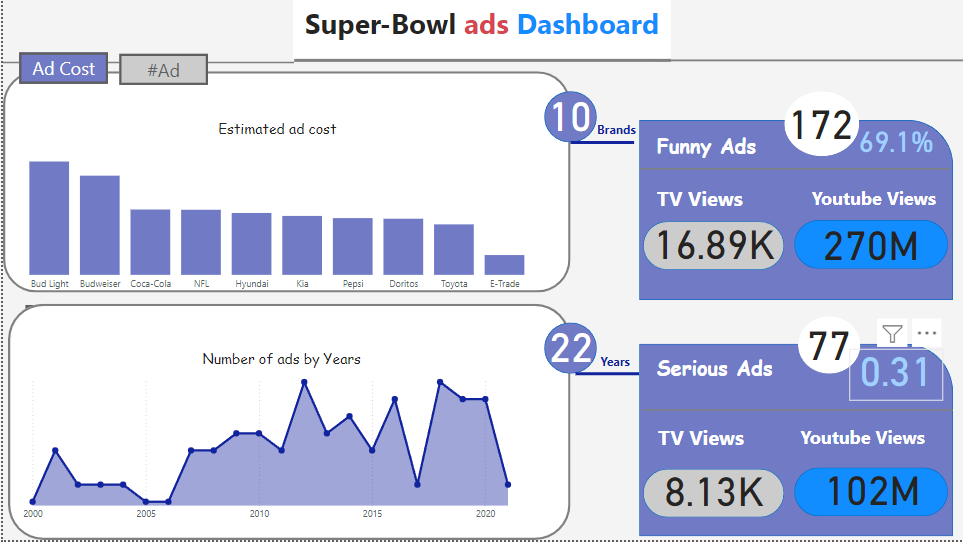

This screenshot's page, from the dashboard's own definition file:
{"tool":"powerbi","page":{"name":"Page 1","canvas":[1280,720],"ordinal":0},"visuals":[{"type":"actionButton","title":"ad cost","box":[21.7,70,118.3,41.7],"z":0,"group":"g2"},{"type":"actionButton","title":"ad cost","box":[21.7,70,118.3,41.7],"z":0,"group":"g1"},{"type":"shape","box":[848.3,160,418.3,240],"z":0},{"type":"textbox","box":[387,0,503.6,79.6],"z":1000},{"type":"actionButton","title":"#ads","box":[155,71.7,118.3,41.7],"z":1000,"group":"g1"},{"type":"actionButton","box":[30.7,406.7,118.3,41.7],"z":2000},{"type":"shape","box":[388.3,39.8,502.2,81],"z":3000},{"type":"actionButton","box":[170.7,408.3,111.7,41.7],"z":4000},{"type":"shape","box":[0,73,388.3,20],"z":5000},{"type":"shape","box":[867.2,1.4,413,157.8],"z":6000},{"type":"shape","box":[0,95,756.7,295],"z":7000},{"type":"shape","box":[6.7,405,750,315],"z":8000},{"type":"areaChart","title":"Number of ads by Years","fields":{"Category":["Dim_Year.Year"],"Y":["Measure Table.Total Records"]},"box":[21.7,465,700,238.3],"z":9000},{"type":"shape","box":[721.7,121.7,70,68.3],"z":10000},{"type":"shape","box":[721.7,430,70,68.3],"z":11000},{"type":"card","fields":{"Values":["Measure Table.# brands"]},"box":[718.3,108.3,75,81.7],"z":12000},{"type":"card","fields":{"Values":["Dim_Brands.#Year"]},"box":[720,416.7,75,81.7],"z":13000},{"type":"shape","box":[756.7,170,85,40],"z":14000},{"type":"shape","box":[763.3,478.3,85,40],"z":15000},{"type":"textbox","box":[763.3,156.7,126.7,33.3],"z":16000},{"type":"textbox","box":[791.7,465,75,33.3],"z":17000},{"type":"shape","box":[848.3,458.3,418.3,256.7],"z":18000},{"type":"textbox","box":[866.7,170,298.3,51.7],"z":19000},{"type":"textbox","box":[866.7,465,275,68.3],"z":20000},{"type":"group","id":"g1","title":"inactiveBtn","box":[21.7,70,251.7,43.3],"z":21000},{"type":"group","id":"g2","title":"activeBtn","box":[21.7,70,251.7,43.3],"z":22000},{"type":"group","id":"g3","title":"Charts","box":[3.3,158.3,725,238.3],"z":23000},{"type":"shape","box":[867,1.4,413,157.8],"z":24000},{"type":"columnChart","title":"Estimated ad cost","fields":{"Category":["Dim_Brands.Brand"],"Y":["Dim_Brands.ad cost"]},"box":[3.3,158.3,725,238.3],"z":24500,"group":"g3"},{"type":"shape","box":[848.3,208.3,413.3,33.3],"z":25000},{"type":"shape","box":[853.3,530,413.3,33.3],"z":26000},{"type":"shape","box":[1041.7,121.7,100,86.7],"z":27000},{"type":"shape","box":[1060,421.7,83.3,76.7],"z":28000},{"type":"card","fields":{"Values":["Measure Table.# funny ads"]},"box":[1038.3,141.7,103.3,58.3],"z":29000},{"type":"card","fields":{"Values":["Measure Table.# Serious ads"]},"box":[1043.3,436.7,115,56.7],"z":30000},{"type":"card","fields":{"Values":["Measure Table.% funny ads"]},"box":[1101.7,170,178.3,51.7],"z":31000},{"type":"card","fields":{"Values":["Measure Table.% serious ads"]},"box":[1128.3,465,125,70],"z":32000},{"type":"textbox","box":[866.7,241.7,138.3,51.7],"z":33000},{"type":"textbox","box":[868.3,560,138.3,51.7],"z":33001},{"type":"textbox","box":[1073.3,243.3,206.7,51.7],"z":33002},{"type":"textbox","box":[1058.3,561.7,221.7,50],"z":33004},{"type":"shape","box":[853.3,295,188.3,65],"z":33005},{"type":"shape","box":[1055,293.3,205,65],"z":33006},{"type":"shape","box":[852.7,625,188.3,65],"z":33007},{"type":"shape","box":[1054.3,623.3,205,65],"z":33008},{"type":"card","fields":{"Values":["Measure Table.# youtube funny ads"]},"box":[1036.7,295,241.7,73.3],"z":33009},{"type":"card","fields":{"Values":["Measure Table.# youtube Serious ads"]},"box":[1038.3,621.7,241.7,73.3],"z":33010},{"type":"card","fields":{"Values":["Measure Table.# Tv funny ads"]},"box":[841.7,296.7,213.3,68.3],"z":33011},{"type":"card","fields":{"Values":["Measure Table.# Tv serious ads"]},"box":[841.7,625,213.3,68.3],"z":33012}]}

Visuals, with their boxes in screenshot pixels (x1, y1, x2, y2), scaled from the page's 1280x720 canvas onto the 963x542 screenshot:
"ad cost" actionButton: bbox=(16, 53, 105, 84)
"ad cost" actionButton: bbox=(16, 53, 105, 84)
shape: bbox=(638, 120, 953, 301)
textbox: bbox=(291, 0, 670, 60)
"#ads" actionButton: bbox=(117, 54, 206, 85)
actionButton: bbox=(23, 306, 112, 338)
shape: bbox=(292, 30, 670, 91)
actionButton: bbox=(128, 307, 212, 339)
shape: bbox=(0, 55, 292, 70)
shape: bbox=(652, 1, 962, 120)
shape: bbox=(0, 72, 569, 294)
shape: bbox=(5, 305, 569, 541)
"Number of ads by Years" areaChart: bbox=(16, 350, 543, 529)
shape: bbox=(543, 92, 596, 143)
shape: bbox=(543, 324, 596, 375)
card - Measure Table.# brands: bbox=(540, 82, 597, 143)
card - Dim_Brands.#Year: bbox=(542, 314, 598, 375)
shape: bbox=(569, 128, 633, 158)
shape: bbox=(574, 360, 638, 390)
textbox: bbox=(574, 118, 670, 143)
textbox: bbox=(596, 350, 652, 375)
shape: bbox=(638, 345, 953, 538)
textbox: bbox=(652, 128, 876, 167)
textbox: bbox=(652, 350, 859, 401)
"inactiveBtn" group: bbox=(16, 53, 206, 85)
"activeBtn" group: bbox=(16, 53, 206, 85)
"Charts" group: bbox=(2, 119, 548, 299)
shape: bbox=(652, 1, 962, 120)
"Estimated ad cost" columnChart: bbox=(2, 119, 548, 299)
shape: bbox=(638, 157, 949, 182)
shape: bbox=(642, 399, 953, 424)
shape: bbox=(784, 92, 859, 157)
shape: bbox=(797, 317, 860, 375)
card - Measure Table.# funny ads: bbox=(781, 107, 859, 151)
card - Measure Table.# Serious ads: bbox=(785, 329, 871, 371)
card - Measure Table.% funny ads: bbox=(829, 128, 962, 167)
card - Measure Table.% serious ads: bbox=(849, 350, 943, 403)
textbox: bbox=(652, 182, 756, 221)
textbox: bbox=(653, 422, 757, 460)
textbox: bbox=(807, 183, 962, 222)
textbox: bbox=(796, 423, 962, 460)
shape: bbox=(642, 222, 784, 271)
shape: bbox=(794, 221, 948, 270)
shape: bbox=(642, 470, 783, 519)
shape: bbox=(793, 469, 947, 518)
card - Measure Table.# youtube funny ads: bbox=(780, 222, 962, 277)
card - Measure Table.# youtube Serious ads: bbox=(781, 468, 962, 523)
card - Measure Table.# Tv funny ads: bbox=(633, 223, 794, 275)
card - Measure Table.# Tv serious ads: bbox=(633, 470, 794, 522)
